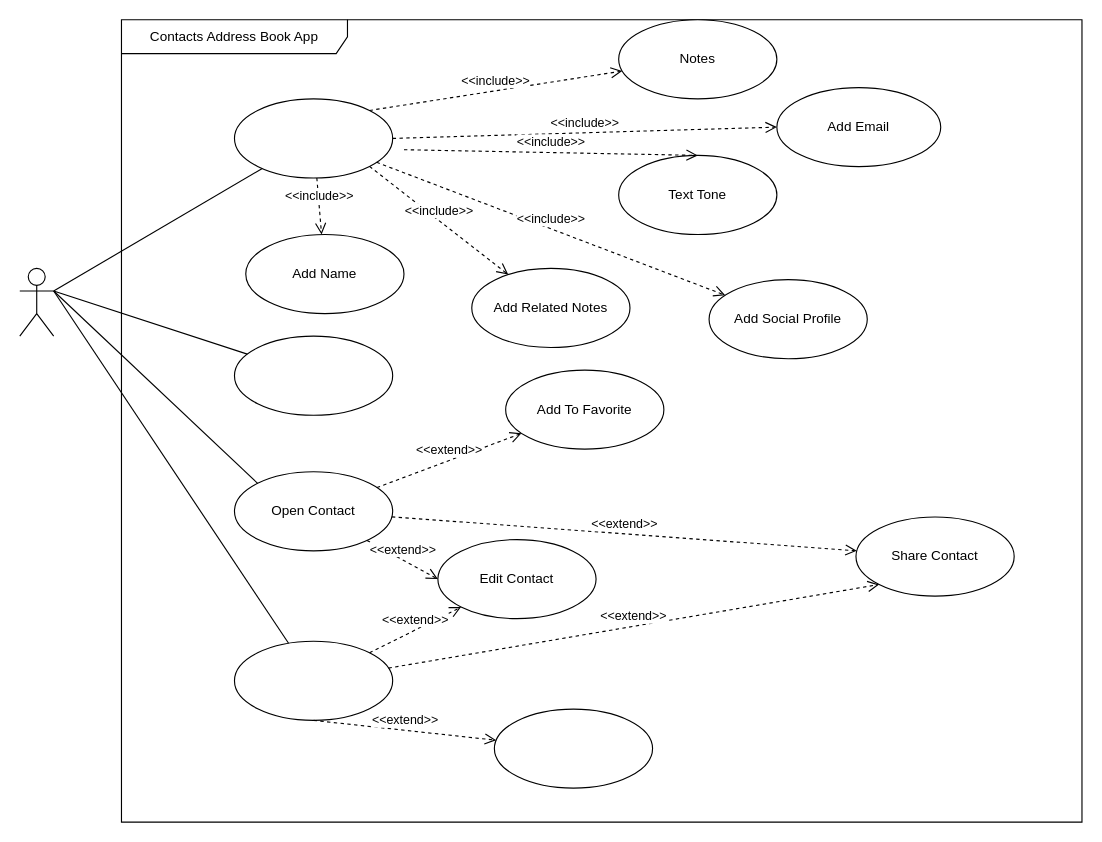
The diagram is 1102 pixels wide and 842 high, and some of its shapes have lost their labels. Each missing label, with the centre of its shape:
"Actor" goes at (x=36, y=301).
"Add New Contact" goes at (x=313, y=138).
"Open My Contact" goes at (x=313, y=680).
"Search for Contacts" goes at (x=313, y=375).
"Show Medical ID" goes at (x=573, y=748).
